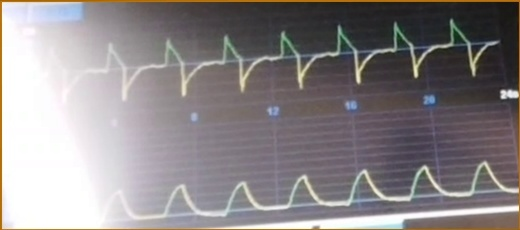Normal Flow: (48, 18, 499, 102)
Normal Volume: (87, 157, 520, 221)
